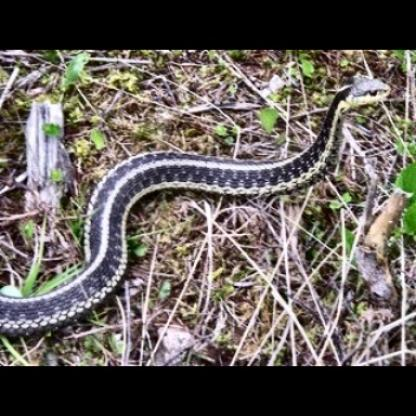Snake: (3, 79, 414, 345)
